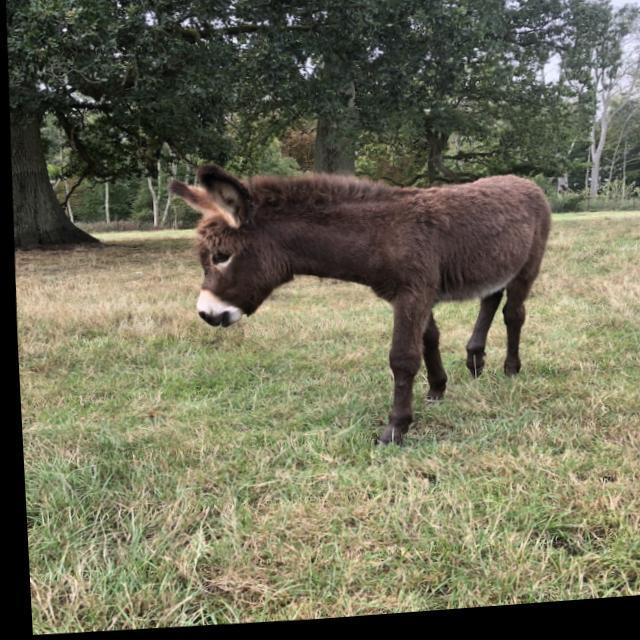Donkey: (155, 142, 559, 467)
